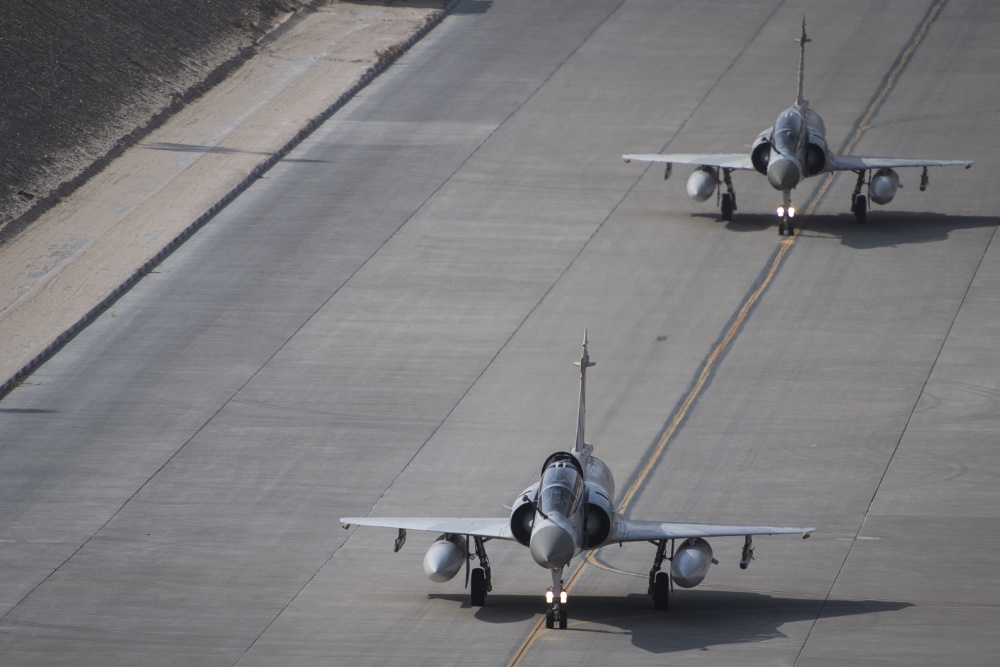Mirage2000: (339, 326, 817, 630), (621, 12, 976, 236)
